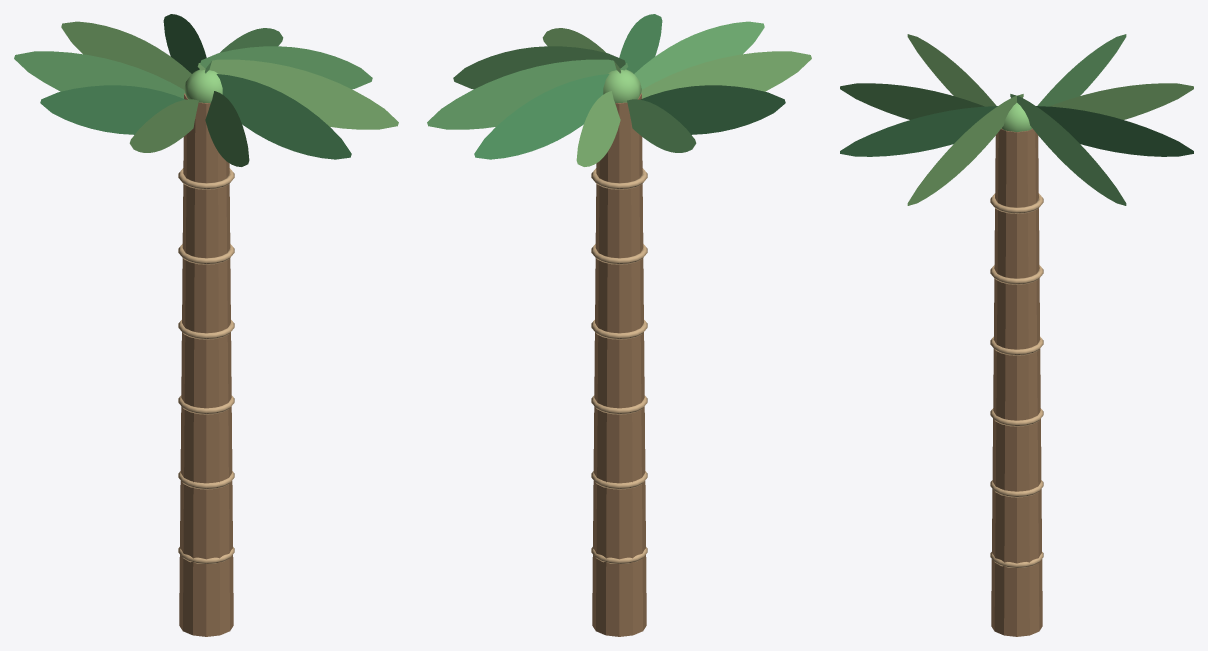
File: tropical-palm.glb
The picture shows the model from 3 angles, left to right: view 1: azimuth 30°, elevation 25°; view 2: azimuth 150°, elevation 25°; view 3: azimuth 270°, elevation 25°; orthographic projection. The views are drawn at different scales.
Visible parts, largest first — view 1: Tapered palm trunk, Palm frond 1, Palm frond 2, Palm frond 5, Palm frond 6, Palm frond 7, Palm frond 0, Palm frond 4, Palm frond 3, Palm frond 8, Crown, Palm frond 9; view 2: Tapered palm trunk, Palm frond 9, Palm frond 8, Palm frond 5, Palm frond 4, Palm frond 3, Palm frond 0, Palm frond 6, Palm frond 7, Palm frond 2, Crown, Palm frond 1; view 3: Tapered palm trunk, Palm frond 2, Palm frond 8, Palm frond 1, Palm frond 9, Palm frond 3, Palm frond 7, Palm frond 4, Palm frond 6, Crown.
Boxes of the visible parts, box(x1,y1,x2,y2) form: Tapered palm trunk: box(179, 93, 233, 636); Palm frond 1: box(197, 59, 398, 129); Palm frond 2: box(216, 74, 351, 159); Palm frond 5: box(40, 85, 185, 134); Palm frond 6: box(14, 51, 184, 98); Palm frond 7: box(61, 21, 191, 89); Palm frond 0: box(200, 46, 372, 89); Palm frond 4: box(129, 99, 198, 152); Palm frond 3: box(205, 91, 249, 166); Palm frond 8: box(163, 14, 206, 73); Crown: box(184, 69, 222, 103); Palm frond 9: box(205, 28, 283, 73); Tapered palm trunk: box(592, 93, 646, 636); Palm frond 9: box(427, 59, 628, 129); Palm frond 8: box(474, 74, 609, 159); Palm frond 5: box(640, 85, 785, 134); Palm frond 4: box(641, 51, 811, 98); Palm frond 3: box(634, 21, 764, 89); Palm frond 0: box(453, 46, 625, 89); Palm frond 6: box(627, 99, 696, 152); Palm frond 7: box(576, 91, 620, 166); Palm frond 2: box(619, 14, 662, 73); Crown: box(603, 69, 641, 103); Palm frond 1: box(542, 28, 620, 73); Tapered palm trunk: box(991, 128, 1042, 636); Palm frond 2: box(840, 106, 997, 156); Palm frond 8: box(1036, 106, 1193, 156); Palm frond 1: box(907, 94, 1023, 205); Palm frond 9: box(1010, 94, 1126, 205); Palm frond 3: box(840, 83, 984, 119); Palm frond 7: box(1049, 83, 1193, 119); Palm frond 4: box(907, 34, 996, 106); Palm frond 6: box(1037, 34, 1126, 106); Crown: box(1001, 103, 1032, 131).
Bounding box in the file's own units: 4.78 × 7.82 × 4.66.
